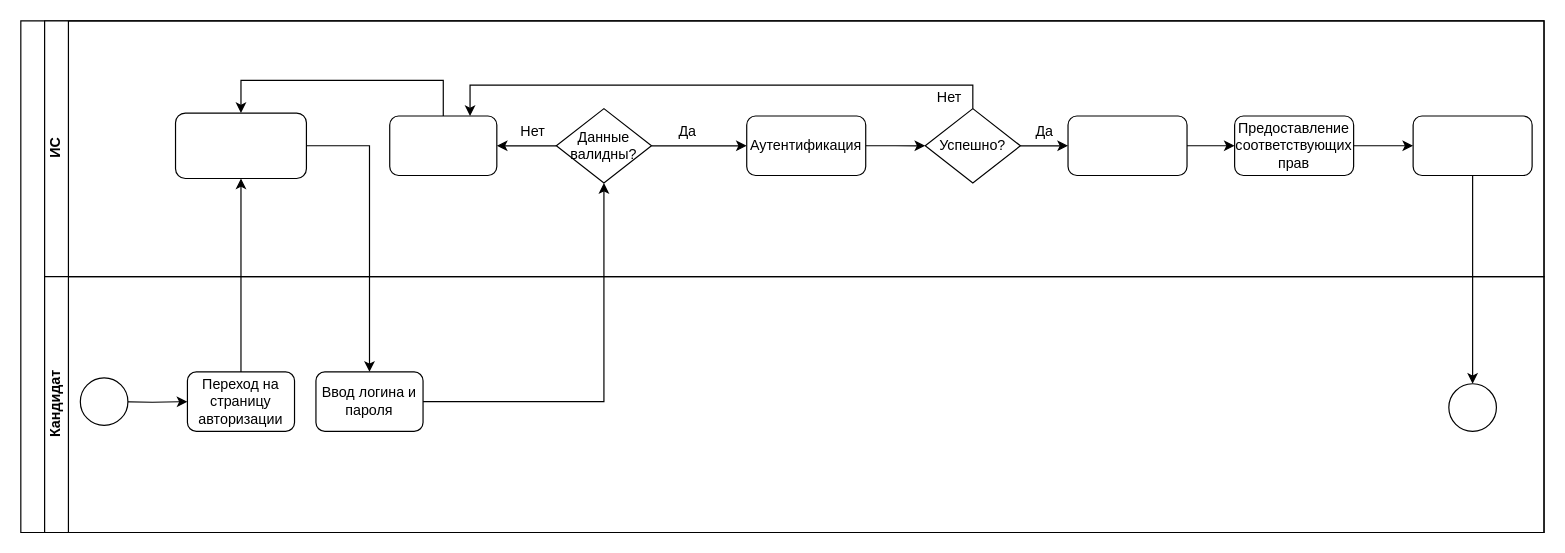
This 1565x553 diagram has some shape labels left out. Each missing label, with the centre of its shape:
"Авторизация" belongs at [1127,145].
"Предоставление интерфейса авторизации" belongs at [240,145].
"Сообщение об ошибке" belongs at [443,145].
"Страница авторизованного профиля" belongs at [1472,145].
